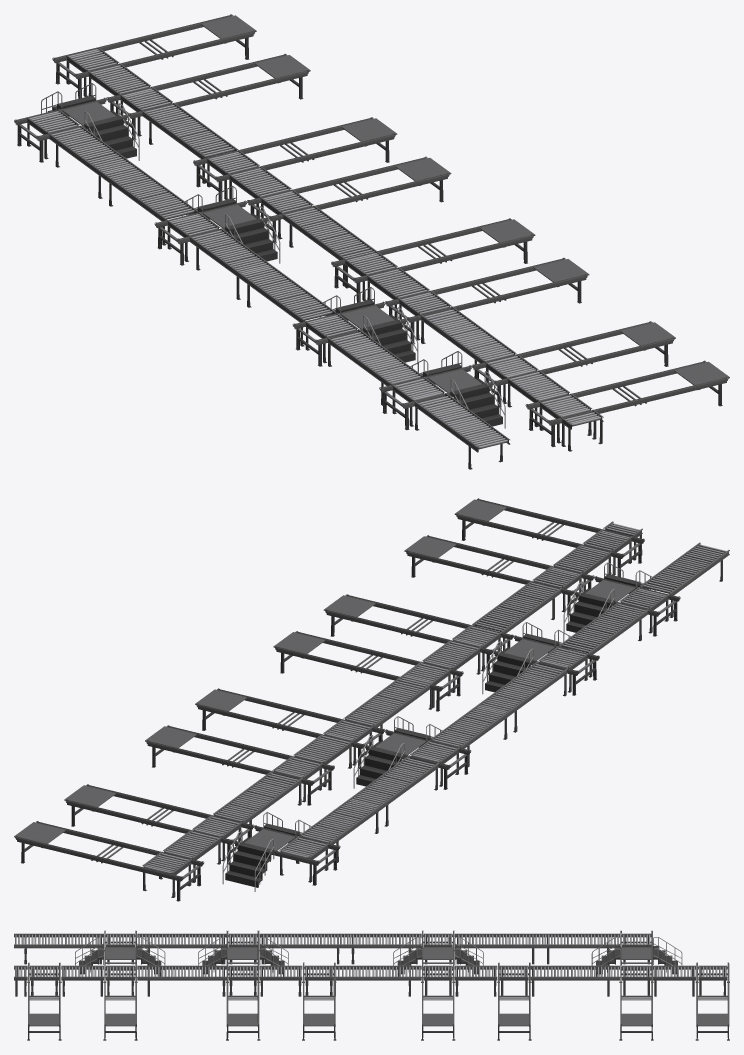
Rendered from SND_gtxsx.glb.
The picture shows the model from 3 angles, top to bottom: view 1: azimuth 30°, elevation 25°; view 2: azimuth 150°, elevation 25°; view 3: azimuth 270°, elevation 25°; orthographic projection. The views are drawn at different scales.
Bounding box in the file's own units: 8297 × 1249 × 26532.
2 materials, 2 textured.
